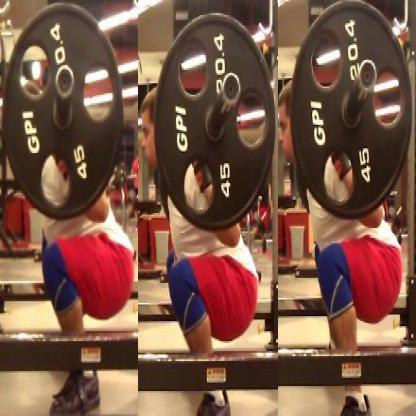Barbell: (56, 65, 77, 102), (358, 59, 379, 95), (223, 72, 243, 108)
